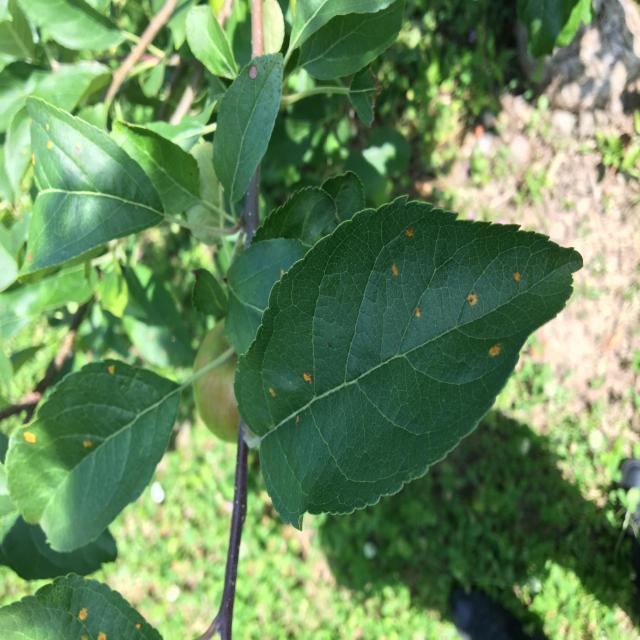Rust: (460, 290, 490, 323), (298, 364, 321, 398), (16, 424, 42, 454), (102, 353, 126, 384), (478, 341, 508, 362), (70, 435, 96, 456), (384, 258, 401, 289), (406, 299, 424, 328), (399, 222, 419, 246), (511, 258, 524, 294), (288, 407, 306, 431), (264, 384, 278, 406)
